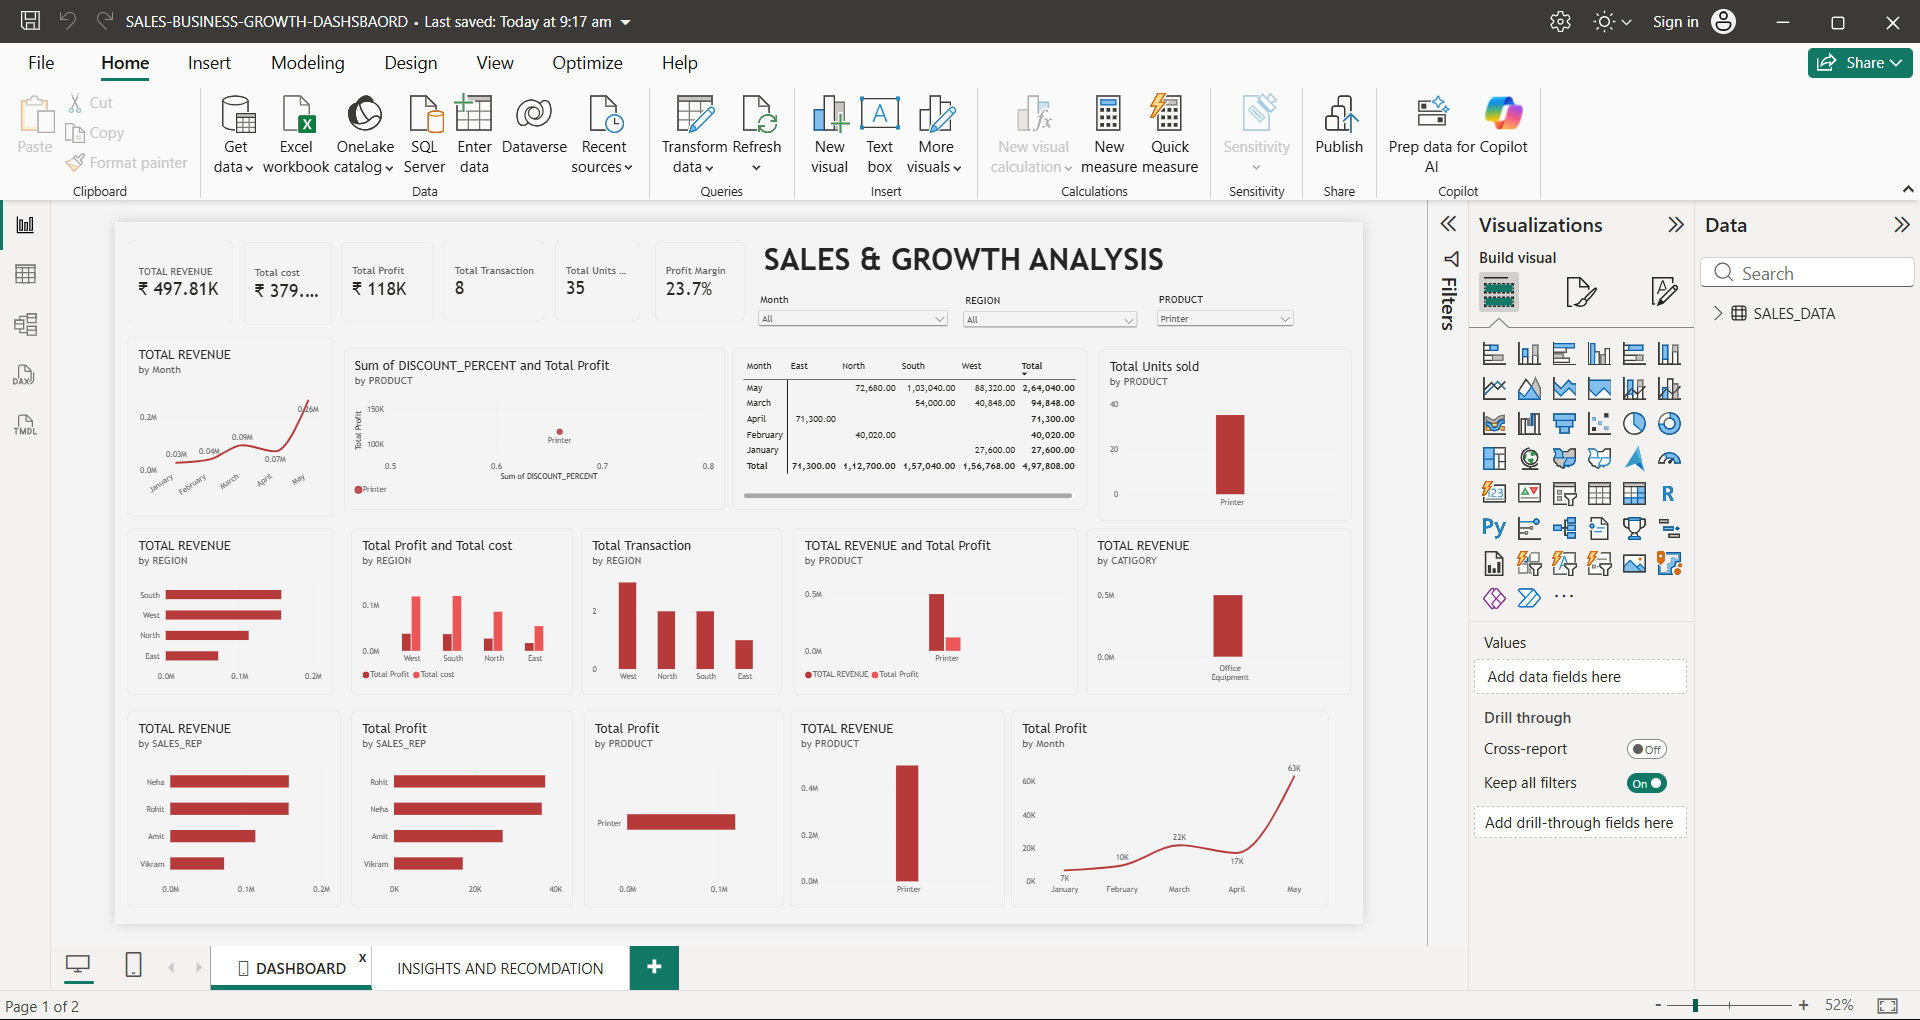

The dashboard page shown, as its layout file describes it:
{"tool":"powerbi","page":{"name":"DASHBOARD","canvas":[1920,1080],"ordinal":0},"visuals":[{"type":"cardVisual","fields":{"Data":["SALES_DATA.TOTAL REVENUE"]},"box":[20,28.8,162.6,127.6],"z":0},{"type":"cardVisual","fields":{"Data":["SALES_DATA.Total Profit"]},"box":[348.8,30,143.8,122.5],"z":1000},{"type":"cardVisual","fields":{"Data":["SALES_DATA.Total cost"]},"box":[198.8,30,136.2,127.5],"z":2000},{"type":"cardVisual","fields":{"Data":["SALES_DATA.Profit Margin"]},"box":[830,30,138.8,122.5],"z":3000},{"type":"cardVisual","fields":{"Data":["SALES_DATA.Total Units sold"]},"box":[677.5,28.8,130,123.8],"z":4000},{"type":"cardVisual","fields":{"Data":["SALES_DATA.Total Transaction"]},"box":[506.2,28.8,155,123.8],"z":5000},{"type":"lineChart","fields":{"Category":["SALES_DATA.MONTH.Variation.Date Hierarchy.Month"],"Y":["SALES_DATA.TOTAL REVENUE"]},"box":[20.2,176.1,315.5,277],"z":6000},{"type":"lineChart","fields":{"Category":["SALES_DATA.MONTH.Variation.Date Hierarchy.Month"],"Y":["SALES_DATA.Total Profit"]},"box":[1379.4,752,487.9,302.7],"z":7000},{"type":"clusteredColumnChart","fields":{"Category":["SALES_DATA.PRODUCT"],"Y":["SALES_DATA.TOTAL REVENUE"]},"box":[1038.2,752,330.2,302.7],"z":8000},{"type":"clusteredBarChart","fields":{"Category":["SALES_DATA.REGION"],"Y":["SALES_DATA.TOTAL REVENUE"]},"box":[20.2,471.4,315.5,256.8],"z":9000},{"type":"clusteredBarChart","fields":{"Category":["SALES_DATA.SALES_REP"],"Y":["SALES_DATA.TOTAL REVENUE"]},"box":[20.2,752,328.3,302.7],"z":10000},{"type":"clusteredBarChart","fields":{"Category":["SALES_DATA.PRODUCT"],"Y":["SALES_DATA.Total Profit"]},"box":[720.9,752,308.2,302.7],"z":11000},{"type":"columnChart","fields":{"Category":["SALES_DATA.CATIGORY"],"Y":["SALES_DATA.TOTAL REVENUE"]},"box":[1494.9,471.4,407.2,256.8],"z":12000},{"type":"clusteredColumnChart","fields":{"Category":["SALES_DATA.PRODUCT"],"Y":["SALES_DATA.Total Units sold"]},"box":[1512.9,195.7,388.6,262.9],"z":13000},{"type":"clusteredColumnChart","fields":{"Category":["SALES_DATA.PRODUCT"],"Y":["SALES_DATA.TOTAL REVENUE","SALES_DATA.Total Profit"]},"box":[1043.7,471.4,436.6,256.8],"z":14000},{"type":"clusteredColumnChart","fields":{"Category":["SALES_DATA.REGION"],"Y":["SALES_DATA.Total Profit","SALES_DATA.Total cost"]},"box":[363.2,471.4,341.2,256.8],"z":15000},{"type":"scatterChart","fields":{"Series":["SALES_DATA.PRODUCT"],"X":["Sum(SALES_DATA.DISCOUNT_PERCENT)"],"Y":["SALES_DATA.Total Profit"]},"box":[351.7,195,586.7,248.3],"z":16000},{"type":"pivotTable","fields":{"Columns":["SALES_DATA.REGION"],"Rows":["SALES_DATA.MONTH.Variation.Date Hierarchy.Month"],"Values":["SALES_DATA.TOTAL REVENUE"]},"box":[950,195,545,248.3],"z":17000},{"type":"clusteredBarChart","fields":{"Category":["SALES_DATA.SALES_REP"],"Y":["SALES_DATA.Total Profit"]},"box":[363.2,752,341.2,302.7],"z":18000},{"type":"clusteredColumnChart","fields":{"Category":["SALES_DATA.REGION"],"Y":["SALES_DATA.Total Transaction"]},"box":[716.7,471.7,308.2,256.8],"z":19000},{"type":"slicer","fields":{"Values":["SALES_DATA.MONTH.Variation.Date Hierarchy.Month"]},"box":[984,110,302,66],"z":21000},{"type":"slicer","fields":{"Values":["SALES_DATA.REGION"]},"box":[1300,112,278,64],"z":22000},{"type":"slicer","fields":{"Values":["SALES_DATA.PRODUCT"]},"box":[1598,110,220,66],"z":23000},{"type":"textbox","box":[998,28,848,66],"z":23001}]}

Visuals, with their boxes on the page's 1920x1080 design canvas (x1, y1, x2, y2). These are canvas units, not pixel positions in the 1920x1020 screenshot, which may show the page scaled, cropped or inside an application window:
cardVisual - SALES_DATA.TOTAL REVENUE: 20/29/183/156
cardVisual - SALES_DATA.Total Profit: 349/30/493/152
cardVisual - SALES_DATA.Total cost: 199/30/335/158
cardVisual - SALES_DATA.Profit Margin: 830/30/969/152
cardVisual - SALES_DATA.Total Units sold: 678/29/808/153
cardVisual - SALES_DATA.Total Transaction: 506/29/661/153
lineChart - SALES_DATA.MONTH.Variation.Date Hierarchy.Month x SALES_DATA.TOTAL REVENUE: 20/176/336/453
lineChart - SALES_DATA.MONTH.Variation.Date Hierarchy.Month x SALES_DATA.Total Profit: 1379/752/1867/1055
clusteredColumnChart - SALES_DATA.PRODUCT x SALES_DATA.TOTAL REVENUE: 1038/752/1368/1055
clusteredBarChart - SALES_DATA.REGION x SALES_DATA.TOTAL REVENUE: 20/471/336/728
clusteredBarChart - SALES_DATA.SALES_REP x SALES_DATA.TOTAL REVENUE: 20/752/348/1055
clusteredBarChart - SALES_DATA.PRODUCT x SALES_DATA.Total Profit: 721/752/1029/1055
columnChart - SALES_DATA.CATIGORY x SALES_DATA.TOTAL REVENUE: 1495/471/1902/728
clusteredColumnChart - SALES_DATA.PRODUCT x SALES_DATA.Total Units sold: 1513/196/1902/459
clusteredColumnChart - SALES_DATA.PRODUCT x SALES_DATA.TOTAL REVENUE: 1044/471/1480/728
clusteredColumnChart - SALES_DATA.REGION x SALES_DATA.Total Profit: 363/471/704/728
scatterChart - SALES_DATA.PRODUCT x Sum(SALES_DATA.DISCOUNT_PERCENT): 352/195/938/443
pivotTable - SALES_DATA.REGION x SALES_DATA.MONTH.Variation.Date Hierarchy.Month: 950/195/1495/443
clusteredBarChart - SALES_DATA.SALES_REP x SALES_DATA.Total Profit: 363/752/704/1055
clusteredColumnChart - SALES_DATA.REGION x SALES_DATA.Total Transaction: 717/472/1025/728
slicer - SALES_DATA.MONTH.Variation.Date Hierarchy.Month: 984/110/1286/176
slicer - SALES_DATA.REGION: 1300/112/1578/176
slicer - SALES_DATA.PRODUCT: 1598/110/1818/176
textbox: 998/28/1846/94
